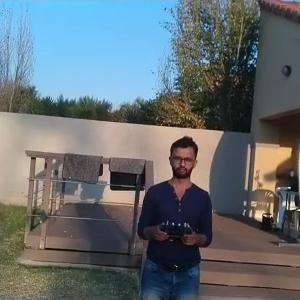follow: (133, 129, 214, 298)
